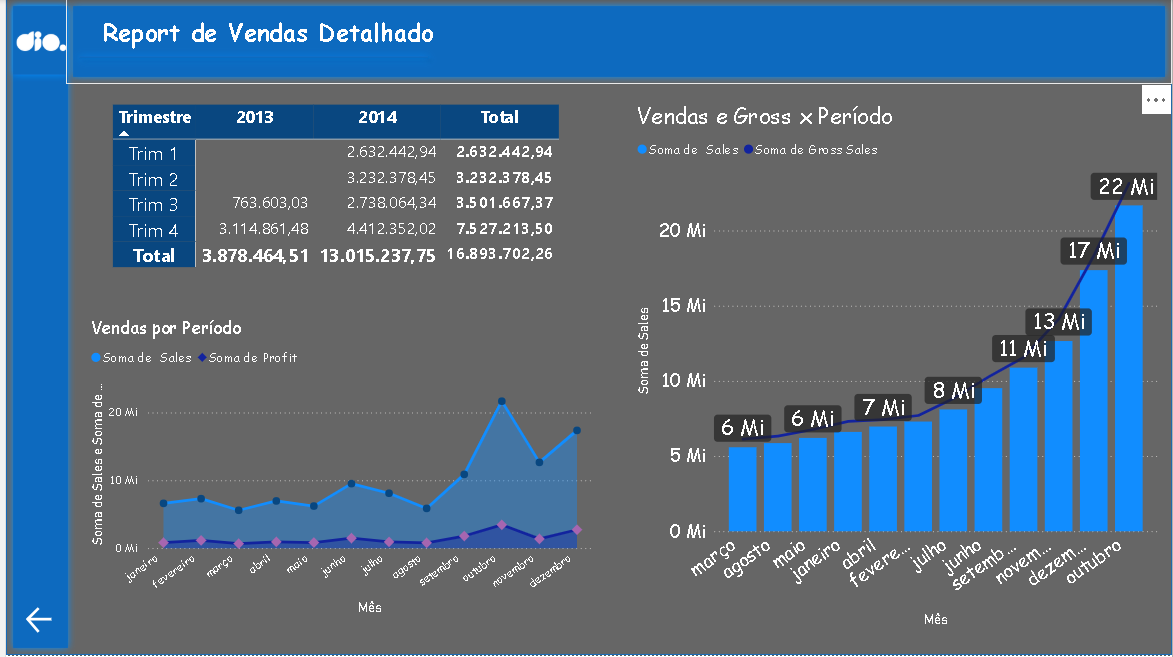

This screenshot's page, from the dashboard's own definition file:
{"tool":"powerbi","page":{"name":"Report","canvas":[1280,720],"ordinal":2},"visuals":[{"type":"shape","box":[0,0,1280.2,720],"z":0},{"type":"areaChart","title":"Vendas por Período","fields":{"Category":["financials.Date.Variation.Hierarquia de datas.Trimestre","financials.Date.Variation.Hierarquia de datas.Mês"],"Y":["Sum(financials. Sales)","Sum(financials.Profit)"]},"box":[87.3,349.1,560.7,332.9],"z":1000},{"type":"pivotTable","fields":{"Columns":["financials.Date.Variation.Hierarquia de datas.Ano"],"Rows":["financials.Date.Variation.Hierarquia de datas.Trimestre"],"Values":["Sum(financials.Profit)"]},"box":[112.4,111,510.4,189.4],"z":2000},{"type":"lineClusteredColumnComboChart","title":"Vendas e Gross x Período","fields":{"Category":["financials.Date.Variation.Hierarquia de datas.Mês"],"Y":["Sum(financials. Sales)"],"Y2":["Sum(financials.Gross Sales)"]},"box":[687.9,111,581.4,582.9],"z":3000},{"type":"shape","box":[0,0,75.8,720.1],"z":4000},{"type":"shape","box":[0,0,74.8,90.8],"z":5000},{"type":"image","title":"logo dio","box":[7.1,12.5,64.1,67.6],"z":6000},{"type":"shape","box":[65.9,0,1214.4,93.3],"z":7000},{"type":"actionButton","box":[18,662.4,39.7,37.9],"z":8000},{"type":"textbox","box":[102.1,11.8,390.6,53.3],"z":9000},{"type":"shape","box":[71.1,47.4,401.3,32.2],"z":10000}]}

Visuals, with their boxes on the page's 1280x720 design canvas (x1, y1, x2, y2). These are canvas units, not pixel positions in the 1173x657 screenshot, which may show the page scaled, cropped or inside an application window:
shape: rect(0, 0, 1280, 720)
"Vendas por Período" areaChart: rect(87, 349, 648, 682)
pivotTable - financials.Date.Variation.Hierarquia de datas.Ano x financials.Date.Variation.Hierarquia de datas.Trimestre: rect(112, 111, 623, 300)
"Vendas e Gross x Período" lineClusteredColumnComboChart: rect(688, 111, 1269, 694)
shape: rect(0, 0, 76, 720)
shape: rect(0, 0, 75, 91)
"logo dio" image: rect(7, 12, 71, 80)
shape: rect(66, 0, 1280, 93)
actionButton: rect(18, 662, 58, 700)
textbox: rect(102, 12, 493, 65)
shape: rect(71, 47, 472, 80)
